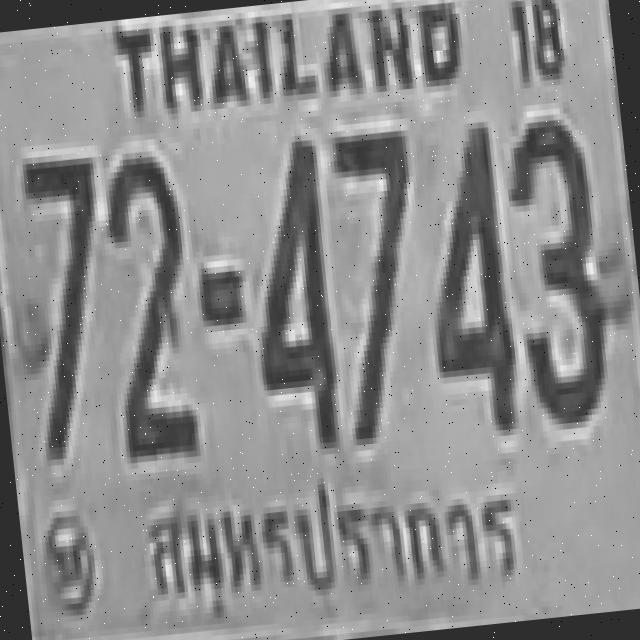2: (94, 146, 200, 454)
3: (500, 108, 614, 418)
4: (411, 115, 518, 430), (236, 131, 340, 445)
7: (322, 121, 434, 436), (16, 151, 120, 454), (327, 124, 429, 404)
SamutPrakan: (121, 438, 537, 640)
